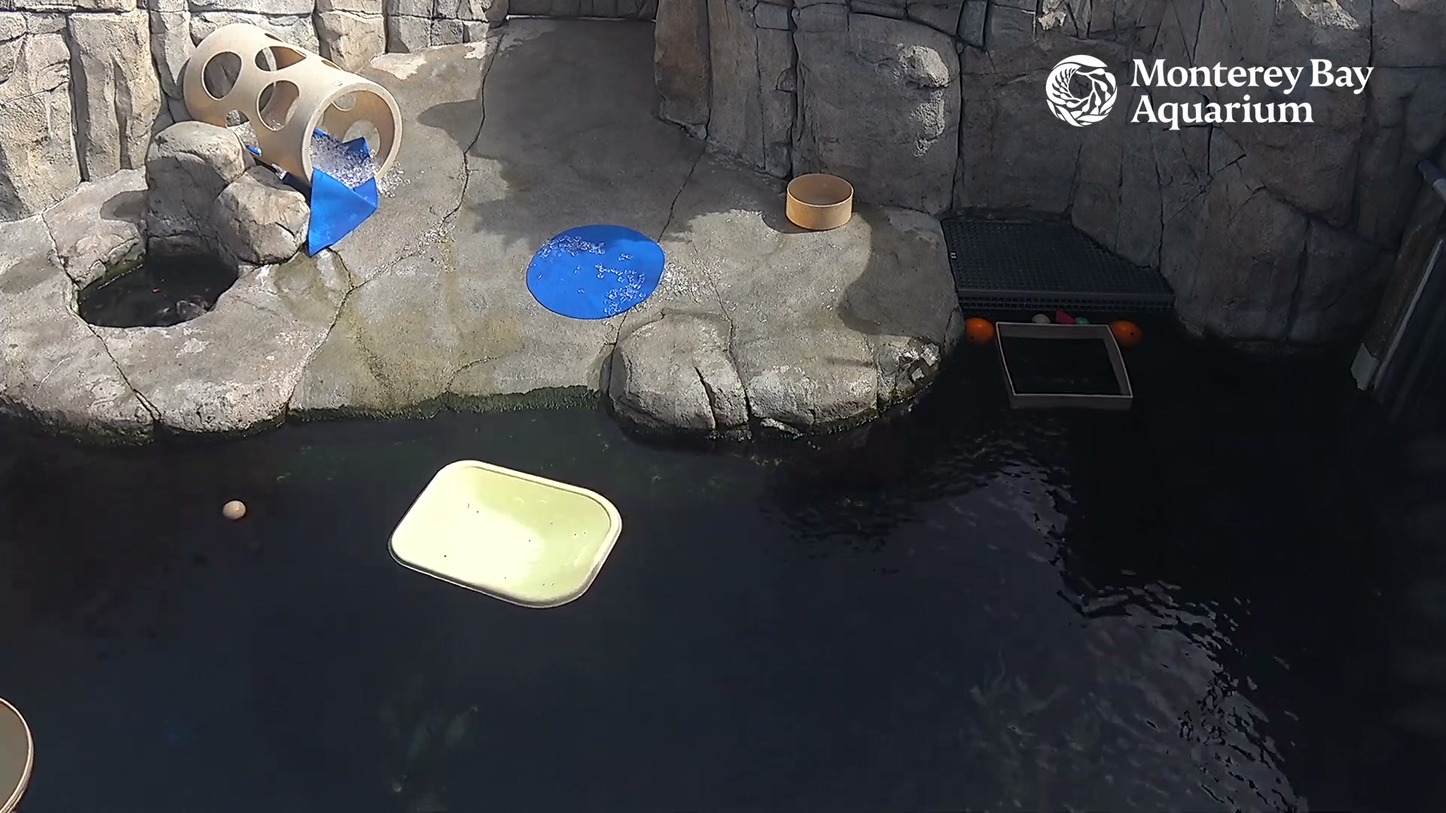Southern Sea Otter: (124, 258, 231, 334)
